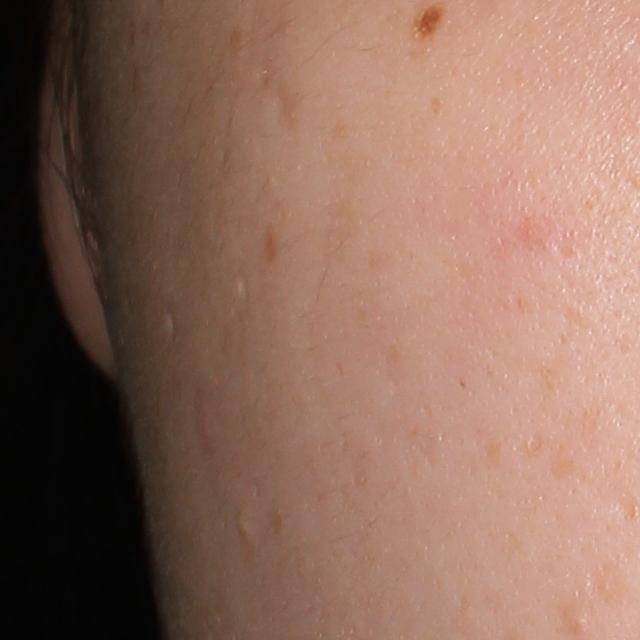atrophic_scar: (261, 78, 301, 145), (235, 263, 253, 305), (162, 306, 181, 340)
comedo: (558, 606, 592, 639), (232, 511, 260, 545)
melasma: (263, 225, 283, 265)
nevus: (410, 0, 448, 39)
